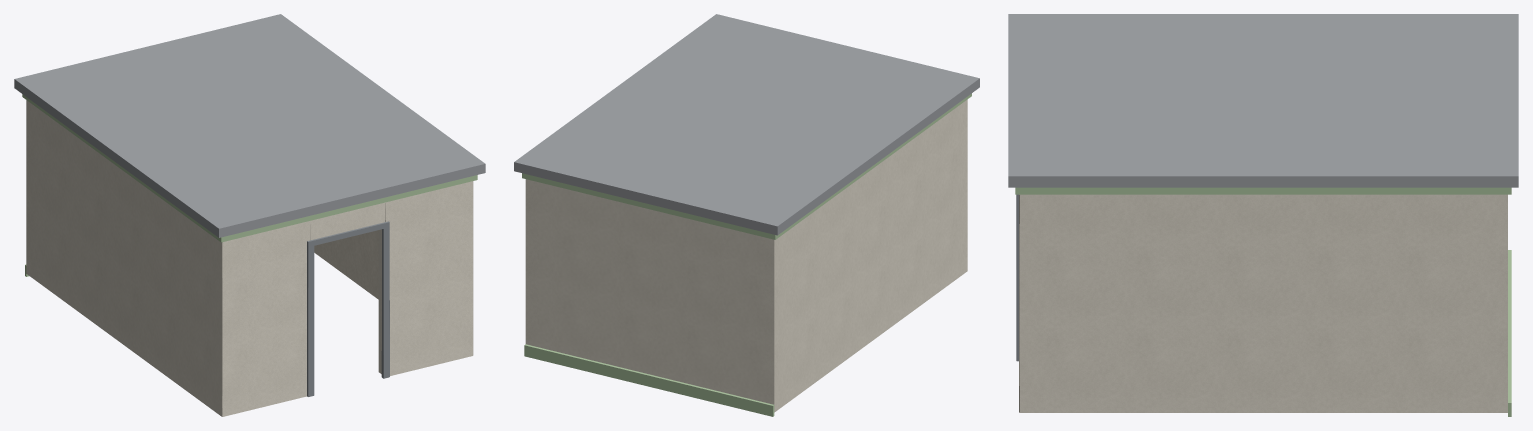
Rendered from roof_hut.glb.
The picture shows the model from 3 angles, left to right: view 1: azimuth 30°, elevation 25°; view 2: azimuth 150°, elevation 25°; view 3: azimuth 270°, elevation 25°; orthographic projection. The views are drawn at different scales.
Visible parts, largest first — view 1: roof_hut_panel, roof_hut_coping, roof_hut_shopframe, roof_hut_plaster, roof_hut_band; view 2: roof_hut_panel, roof_hut_coping, roof_hut_band; view 3: roof_hut_panel, roof_hut_coping, roof_hut_band, roof_hut_shopframe.
Boxes of the visible parts, <box> form: roof_hut_panel: <box>26,100,473,416</box>; roof_hut_coping: <box>14,14,485,237</box>; roof_hut_shopframe: <box>307,221,389,396</box>; roof_hut_plaster: <box>314,230,378,299</box>; roof_hut_band: <box>22,94,477,276</box>; roof_hut_panel: <box>525,99,967,412</box>; roof_hut_coping: <box>514,14,979,235</box>; roof_hut_band: <box>522,93,971,416</box>; roof_hut_panel: <box>1019,194,1507,412</box>; roof_hut_coping: <box>1008,14,1518,187</box>; roof_hut_band: <box>1015,187,1511,416</box>; roof_hut_shopframe: <box>1016,194,1018,361</box>.
Size of the model in its own units: 4.24 by 2.99 by 5.64.
Materials: 5 (2 with a texture image).
